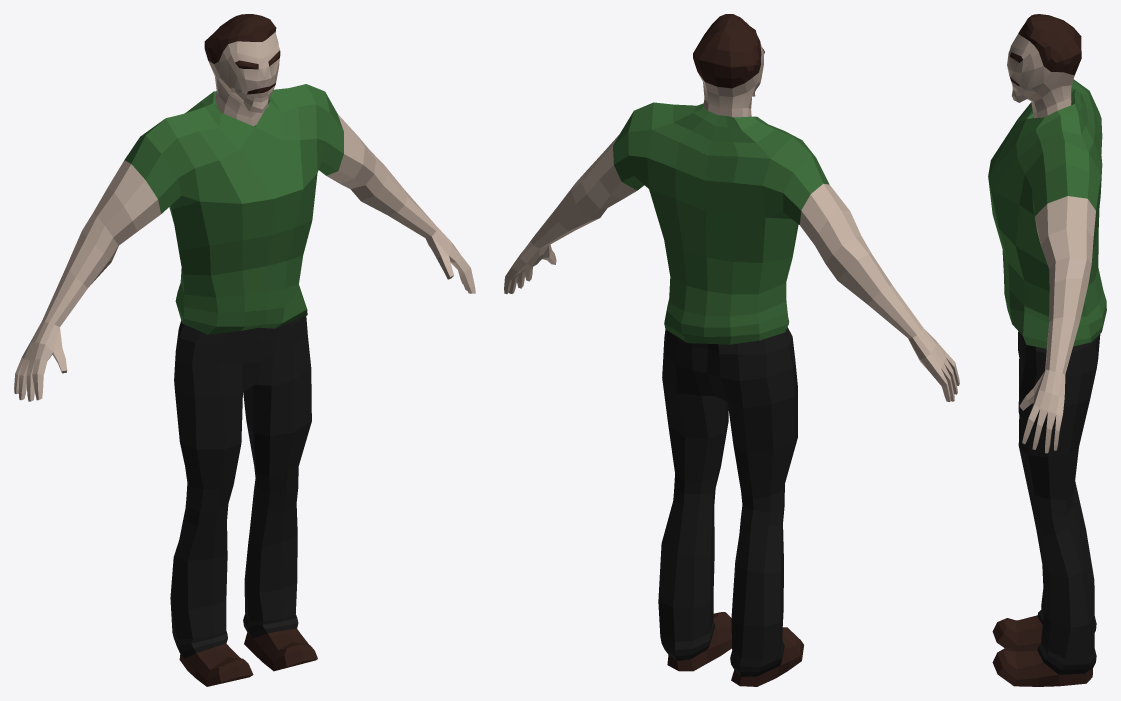
The model's file is man_2.fbx.
The picture shows the model from 3 angles, left to right: view 1: azimuth 30°, elevation 25°; view 2: azimuth 150°, elevation 25°; view 3: azimuth 270°, elevation 25°; orthographic projection.
Visible parts, largest first — view 1: man_2; view 2: man_2; view 3: man_2.
Part boxes in pixels (box(x1,y1,x2,y2)): man_2: box(14, 14, 475, 686); man_2: box(504, 14, 959, 686); man_2: box(988, 14, 1106, 686).
Bounding box in the file's own units: 134 × 185 × 30.67.
